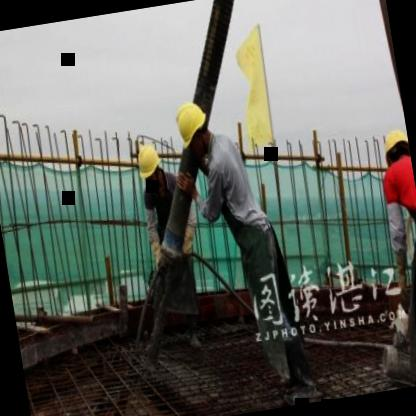helmet: (171, 96, 216, 163), (132, 138, 168, 193), (379, 124, 412, 171)
